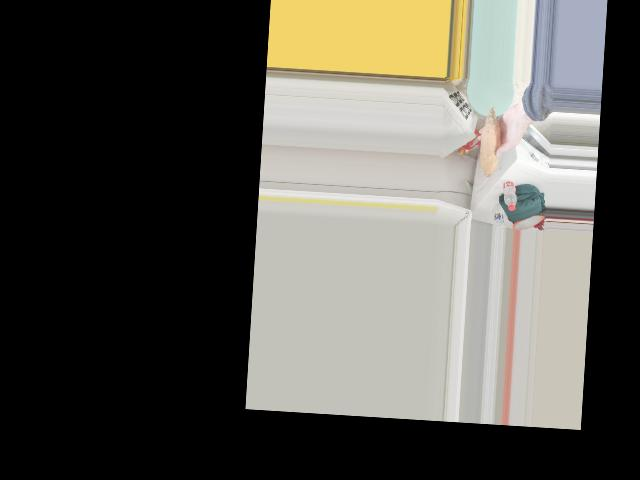sweet_potato: (482, 115, 500, 168)
